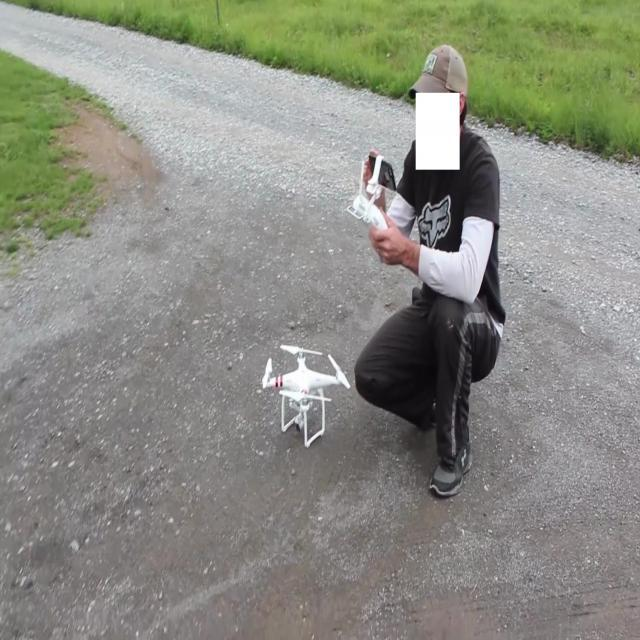drone: (260, 336, 351, 446)
